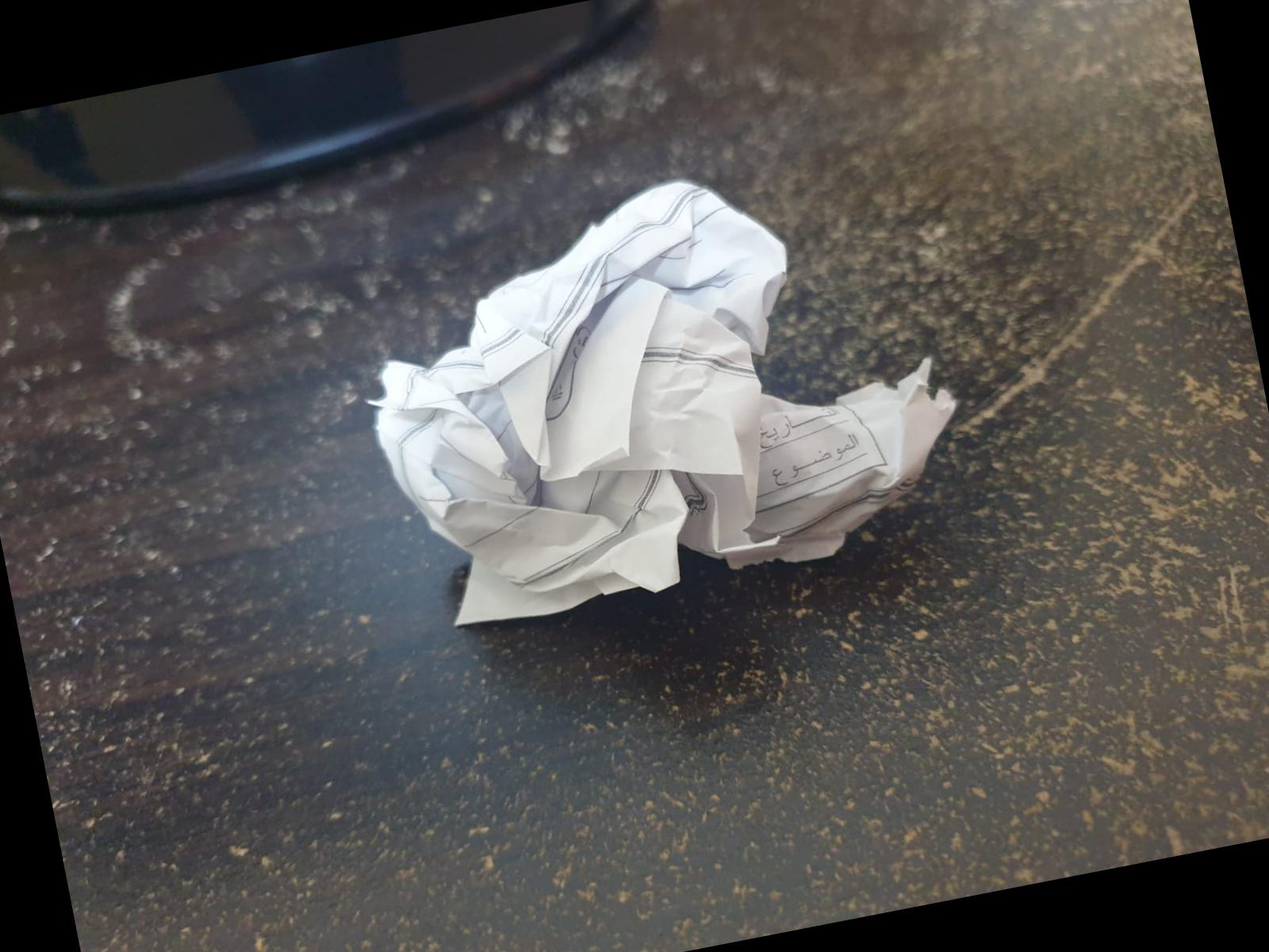Kertas: (373, 181, 953, 623)
